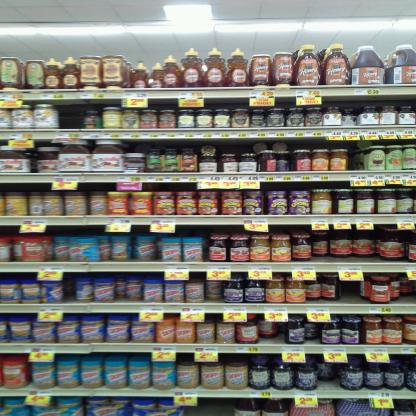Void: (59, 104, 86, 131), (316, 256, 384, 262), (342, 284, 356, 301), (318, 378, 338, 388), (266, 338, 283, 344)
